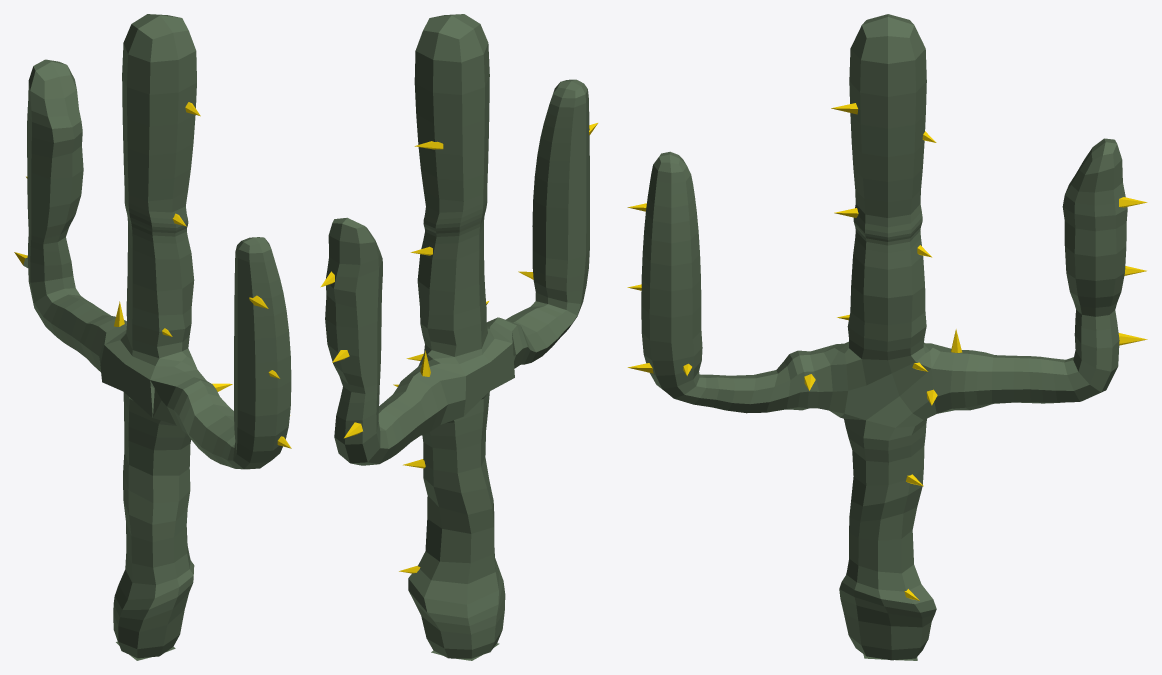
Rendered from Cactus1.fbx.
The picture shows the model from 3 angles, left to right: view 1: azimuth 30°, elevation 25°; view 2: azimuth 150°, elevation 25°; view 3: azimuth 270°, elevation 25°; orthographic projection. The views are drawn at different scales.
Visible parts, largest first — view 1: Plane; view 2: Plane; view 3: Plane.
Part boxes in pixels (x1,y1,x2,y2): Plane: (14,14,291,660); Plane: (320,14,597,660); Plane: (627,14,1147,660).
Size of the model in its own units: 119 by 884 by 650.
